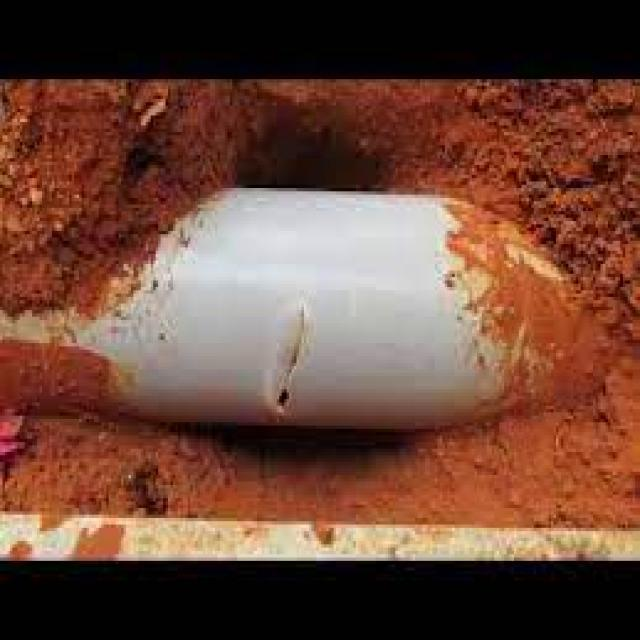crack: (275, 312, 298, 411)
